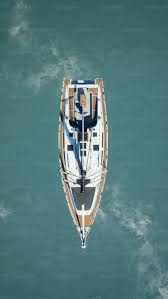boat: (58, 76, 108, 248)
